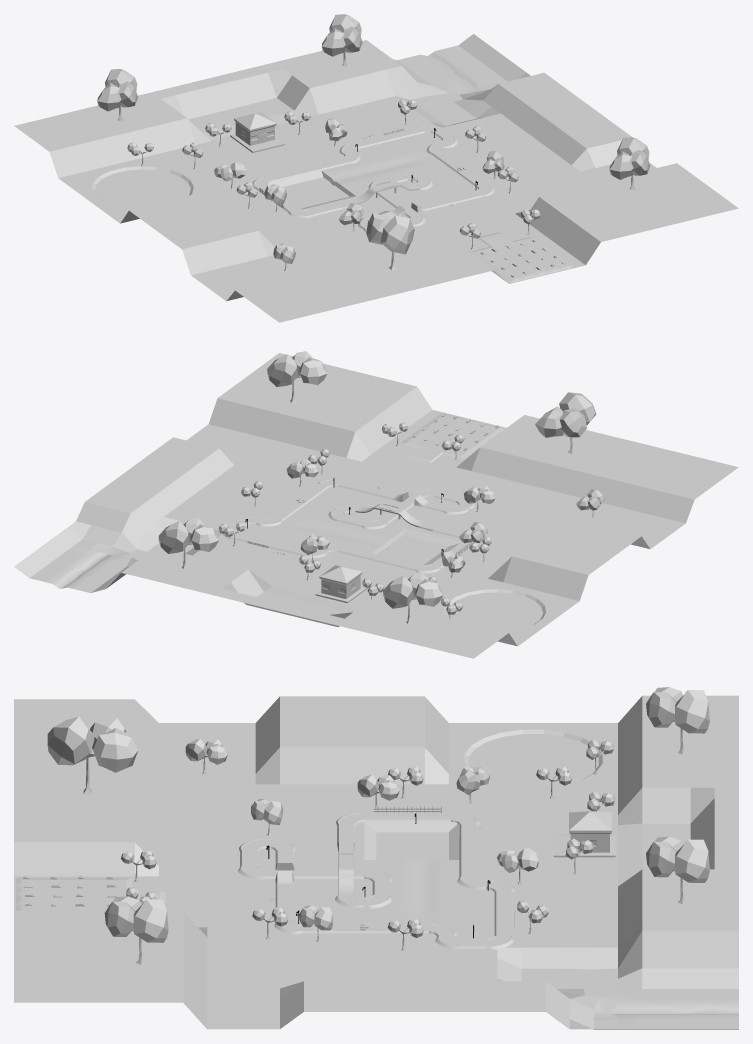
Rendered from pista1.fbx.
The picture shows the model from 3 angles, top to bottom: view 1: azimuth 30°, elevation 25°; view 2: azimuth 150°, elevation 25°; view 3: azimuth 270°, elevation 25°; orthographic projection. The views are drawn at different scales.
Parts seen in each view (by area): view 1: Race_Track.001; view 2: Race_Track.001; view 3: Race_Track.001.
Part boxes in pixels (x1=…): Race_Track.001: x1=14, y1=14, x2=738, y2=322; Race_Track.001: x1=14, y1=351, x2=738, y2=658; Race_Track.001: x1=14, y1=687, x2=738, y2=1029.
Size of the model in its own units: 39309 by 6871 by 39309.
Materials: 7 (6 with a texture image).
